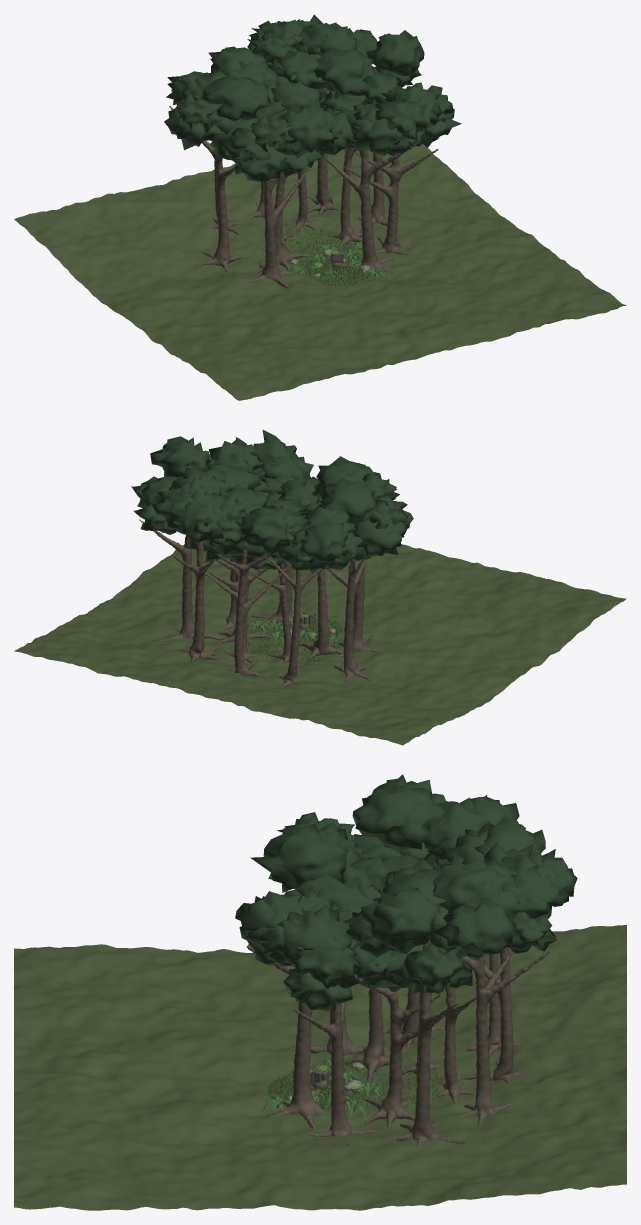
File: menu_scene.glb
3 renders of one model, top to bottom at view 1: azimuth 30°, elevation 25°; view 2: azimuth 150°, elevation 25°; view 3: azimuth 270°, elevation 25°, orthographic. The views are drawn at different scales.
Parts seen in each view (by area): view 1: ground, leaves.072, leaves.082, tree.001, leaves.039, leaves.080, tree.005, tree.006, tree.010, leaves.045, leaves.007, grass.001 (+26 smaller); view 2: ground, leaves.055, tree.007, leaves.072, leaves.080, leaves.056, tree.010, tree.009, leaves.074, tree.011, tree.008, leaves.053 (+28 smaller); view 3: ground, leaves.072, leaves.039, leaves.080, tree.009, leaves.081, tree.011, tree.002, leaves.047, tree.001, tree.006, leaves.077 (+30 smaller).
Boxes of the visible parts, left/top/right/bottom form: ground: left=14, top=143, right=626, bottom=400; leaves.072: left=200, top=75, right=270, bottom=121; leaves.082: left=314, top=48, right=376, bottom=98; tree.001: left=323, top=141, right=417, bottom=279; leaves.039: left=280, top=103, right=338, bottom=158; leaves.080: left=366, top=30, right=424, bottom=76; tree.005: left=244, top=149, right=314, bottom=288; tree.006: left=342, top=149, right=438, bottom=255; tree.010: left=169, top=106, right=247, bottom=272; leaves.045: left=349, top=108, right=410, bottom=156; leaves.007: left=374, top=98, right=428, bottom=137; grass.001: left=262, top=224, right=362, bottom=276; ground: left=14, top=544, right=626, bottom=745; leaves.055: left=239, top=506, right=299, bottom=554; tree.007: left=215, top=540, right=290, bottom=677; leaves.072: left=312, top=477, right=376, bottom=528; leaves.080: left=150, top=436, right=209, bottom=477; leaves.056: left=298, top=522, right=348, bottom=563; tree.010: left=329, top=506, right=399, bottom=683; tree.009: left=171, top=541, right=220, bottom=661; leaves.074: left=352, top=519, right=406, bottom=558; tree.011: left=139, top=519, right=223, bottom=641; tree.008: left=265, top=555, right=322, bottom=687; leaves.053: left=176, top=506, right=225, bottom=542; ground: left=14, top=925, right=626, bottom=1210; leaves.072: left=352, top=781, right=444, bottom=852; leaves.039: left=250, top=824, right=346, bottom=892; leaves.080: left=361, top=887, right=440, bottom=954; tree.009: left=457, top=950, right=550, bottom=1125; leaves.081: left=434, top=903, right=516, bottom=955; tree.011: left=383, top=939, right=467, bottom=1147; tree.002: left=354, top=974, right=440, bottom=1130; leaves.047: left=277, top=904, right=353, bottom=962; tree.001: left=246, top=912, right=358, bottom=1129; tree.006: left=293, top=1002, right=382, bottom=1145; leaves.077: left=403, top=942, right=472, bottom=992.
Size of the model in its own units: 30 by 14.48 by 30.
